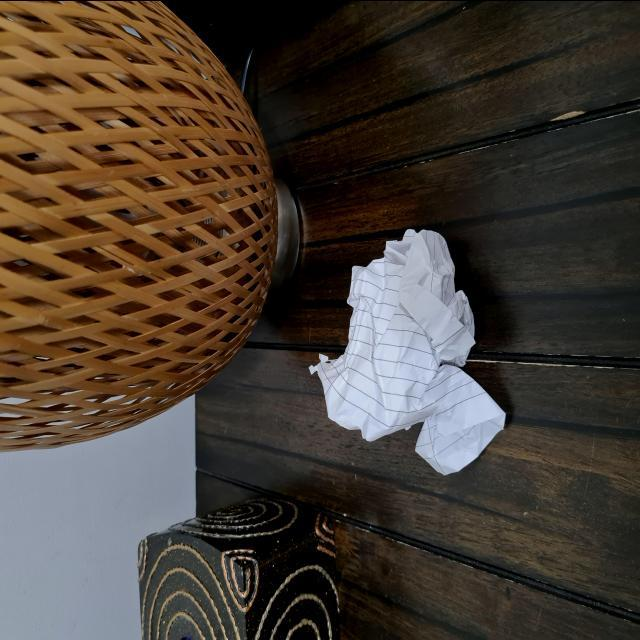Paper: (302, 220, 506, 491)
